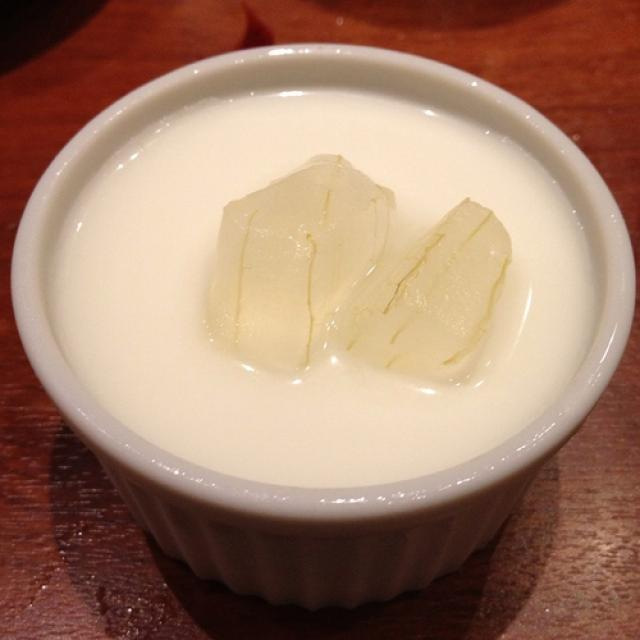米饭主食: (59, 9, 505, 563)
